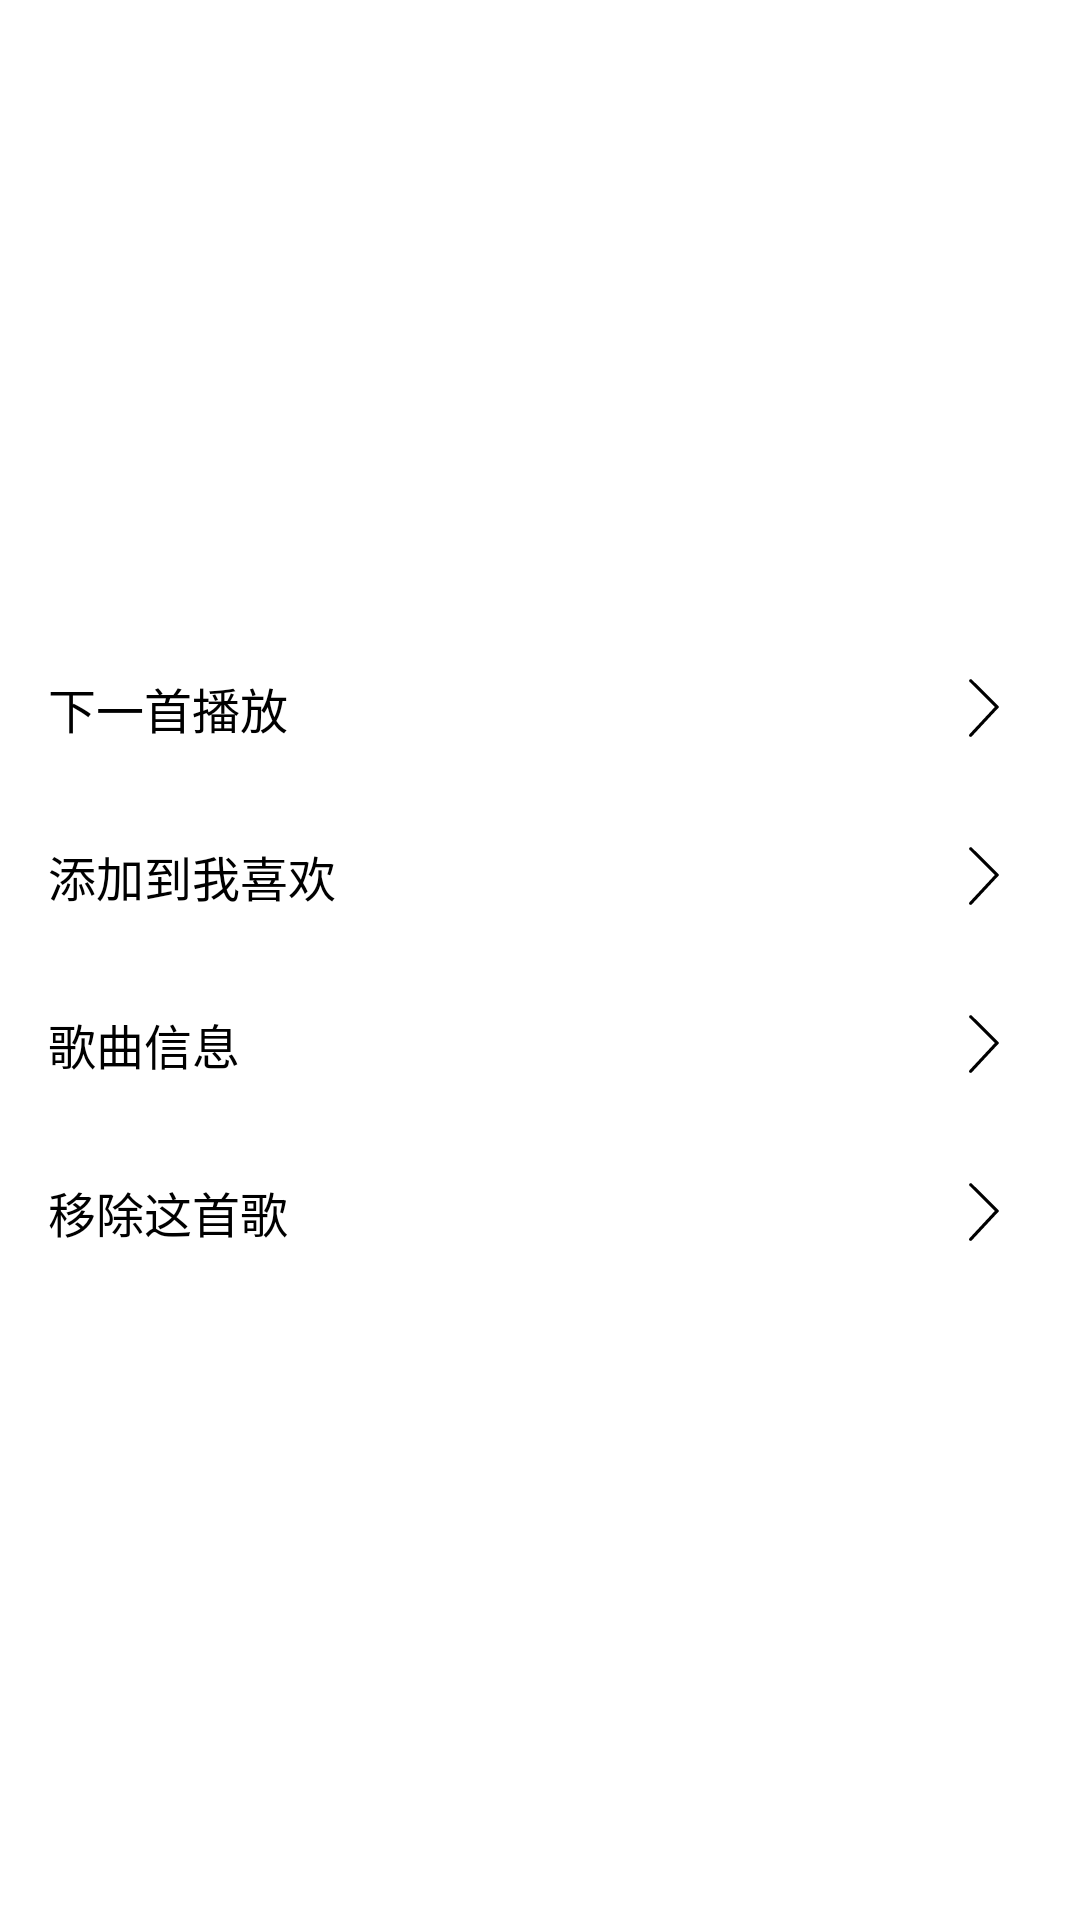

Icons on this 1080px×1920px Android screen, each with its box as [x1,y1,x2,y2]:
enter: [969,679,999,737], [969,847,999,905], [969,1015,999,1073], [969,1183,999,1241]
